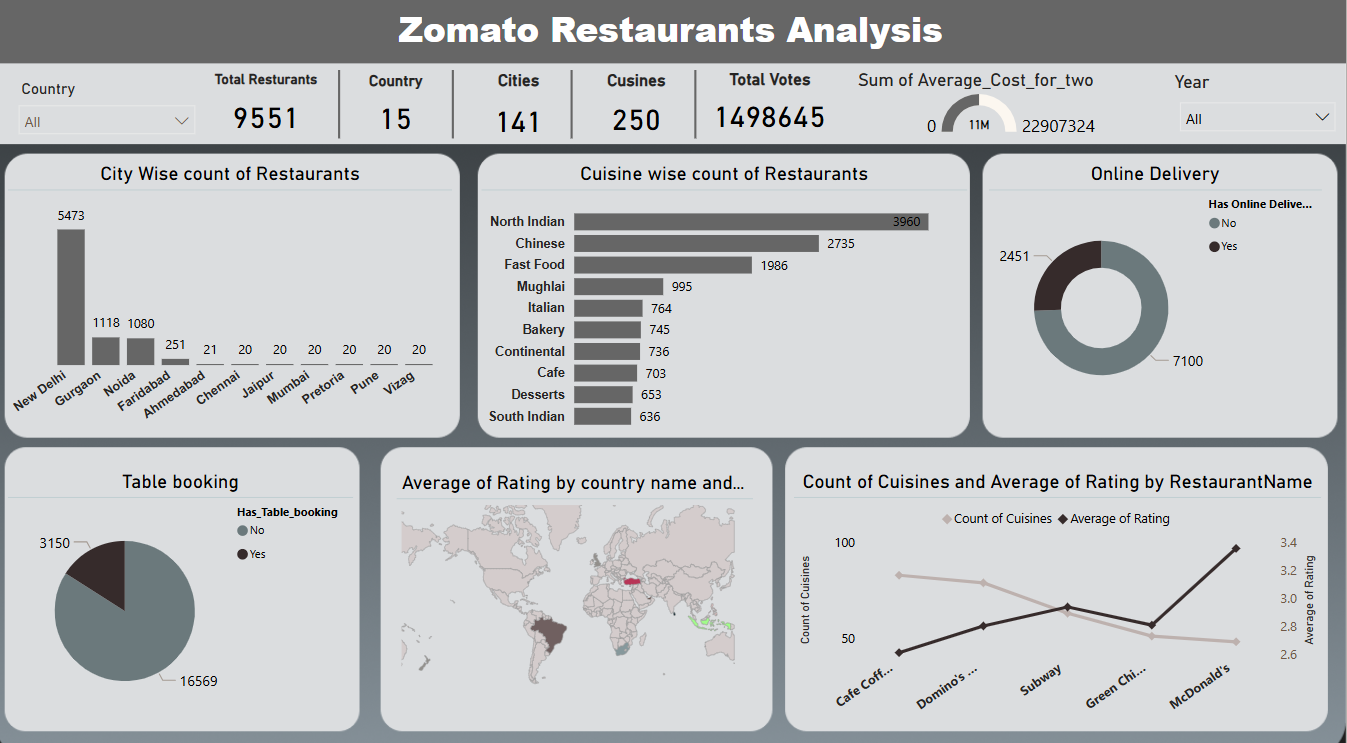

Layout of this report page (visuals, bound fields, positions):
{"tool":"powerbi","page":{"name":"Dashboard","canvas":[1280,720],"ordinal":9},"visuals":[{"type":"card","title":"Country","fields":{"Values":["CountNonNull(Sheet2.countryID)"]},"box":[311.6,67.4,138.4,70.9],"z":0},{"type":"card","title":"Total Resturants","fields":{"Values":["Count(Sheet1.RestaurantID)"]},"box":[187,67.6,141.2,70],"z":1000},{"type":"card","title":"Cusines","fields":{"Values":["Count(Sheet1.Cuisines)"]},"box":[537.2,67.4,141.9,72.1],"z":2000},{"type":"textbox","box":[1.5,0,1279.2,60.3],"z":3000},{"type":"card","title":"Cities","fields":{"Values":["Count(Sheet1.City)"]},"box":[422.3,67.6,148.4,76],"z":4000},{"type":"pieChart","title":"Table booking ","fields":{"Category":["Cleaned Data.Has_Table_booking"],"Y":["Country.No. of resturant"]},"box":[13.3,445.3,327,238.9],"z":5000},{"type":"card","title":"Total Votes","fields":{"Values":["Sum(cuisines copy.Votes)"]},"box":[654.7,66.3,160.5,68.6],"z":6000},{"type":"donutChart","title":"Online Delivery","fields":{"Category":["cuisines copy.Has_Online_delivery"],"Y":["Data.Count Of Resturant"]},"box":[942.4,154.4,314.9,247.4],"z":7000},{"type":"shape","box":[233.7,66.3,187.2,65.1],"z":8000},{"type":"clusteredBarChart","title":"Cuisine wise count of Restaurants","fields":{"Category":["Sheet1.Column"],"Y":["CountNonNull(Sheet1.Cuisines)"]},"box":[462.1,154.4,459.7,260.6],"z":9000},{"type":"shape","box":[340.7,66.3,187.2,65.1],"z":10000},{"type":"columnChart","title":"City Wise count of Restaurants","fields":{"Category":["cuisines copy.City"],"Y":["CountNonNull(cuisines copy.RestaurantID)"]},"box":[13.3,154.4,421.1,260.6],"z":11000},{"type":"shape","box":[453.5,66.3,187.2,65.1],"z":12000},{"type":"lineChart","fields":{"Category":["cuisines copy.RestaurantName"],"Y":["CountNonNull(Cleaned Data.Cuisines)"],"Y2":["Avg(Cleaned Data.Rating)"]},"box":[757.8,445.3,499.5,238.9],"z":13000},{"type":"shape","box":[570.9,66.3,187.2,65.1],"z":14000},{"type":"slicer","title":"Country","fields":{"Values":["Sheet2.country name"]},"box":[12.8,70.9,187.2,60.5],"z":15000},{"type":"shapeMap","fields":{"Category":["Country.country name"],"Series":["Data.Cuisines"],"Value":["Avg(Cleaned Data.Rating)"]},"box":[381.1,445.7,338,238.2],"z":16000},{"type":"slicer","title":"Year","fields":{"Values":["Cleaned Data.new datekey.Variation.Date Hierarchy.Year","Data.Datekey_opening.Variation.Date Hierarchy.Quarter","Cleaned Data.Month"]},"box":[1112.7,66.9,167.9,74.9],"z":17000},{"type":"gauge","fields":{"Y":["Sum(Cleaned Data.Average_Cost_for_two)"]},"box":[812.8,65.1,300,69.8],"z":18000},{"type":"image","box":[258.1,0,107,60.5],"z":19000},{"type":"image","box":[900,0,107,60.5],"z":19001}]}

Visuals, with their boxes in screenshot pixels (x1, y1, x2, y2), scaled from the page's 1280x720 canvas onto the 1347x743 screenshot:
"Country" card: x1=328 y1=70 x2=474 y2=143
"Total Resturants" card: x1=197 y1=70 x2=345 y2=142
"Cusines" card: x1=565 y1=70 x2=715 y2=144
textbox: x1=2 y1=0 x2=1346 y2=62
"Cities" card: x1=444 y1=70 x2=601 y2=148
"Table booking " pieChart: x1=14 y1=460 x2=358 y2=706
"Total Votes" card: x1=689 y1=68 x2=858 y2=139
"Online Delivery" donutChart: x1=992 y1=159 x2=1323 y2=415
shape: x1=246 y1=68 x2=443 y2=136
"Cuisine wise count of Restaurants" clusteredBarChart: x1=486 y1=159 x2=970 y2=428
shape: x1=359 y1=68 x2=556 y2=136
"City Wise count of Restaurants" columnChart: x1=14 y1=159 x2=457 y2=428
shape: x1=477 y1=68 x2=674 y2=136
lineChart - cuisines copy.RestaurantName x CountNonNull(Cleaned Data.Cuisines): x1=797 y1=460 x2=1323 y2=706
shape: x1=601 y1=68 x2=798 y2=136
"Country" slicer: x1=13 y1=73 x2=210 y2=136
shapeMap - Country.country name x Data.Cuisines: x1=401 y1=460 x2=757 y2=706
"Year" slicer: x1=1171 y1=69 x2=1346 y2=146
gauge - Sum(Cleaned Data.Average_Cost_for_two): x1=855 y1=67 x2=1171 y2=139
image: x1=272 y1=0 x2=384 y2=62
image: x1=947 y1=0 x2=1060 y2=62
